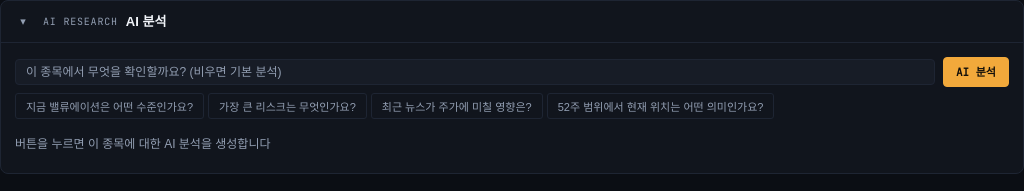
Test: AIPanel › 프리셋을 누르면 바로 그 질문으로 요청한다 / a preset runs that question at once
The image size is (1024, 191).
Click the button "가장 큰 리스크는 무엇인가요?" at coordinates (287, 106), box [208,93,367,119]
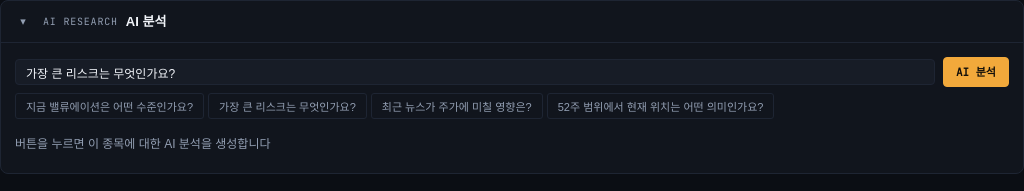
Check: the field named "AI 질문" holds "가장 큰 리스크는 무엇인가요?", box [15,59,935,85]
